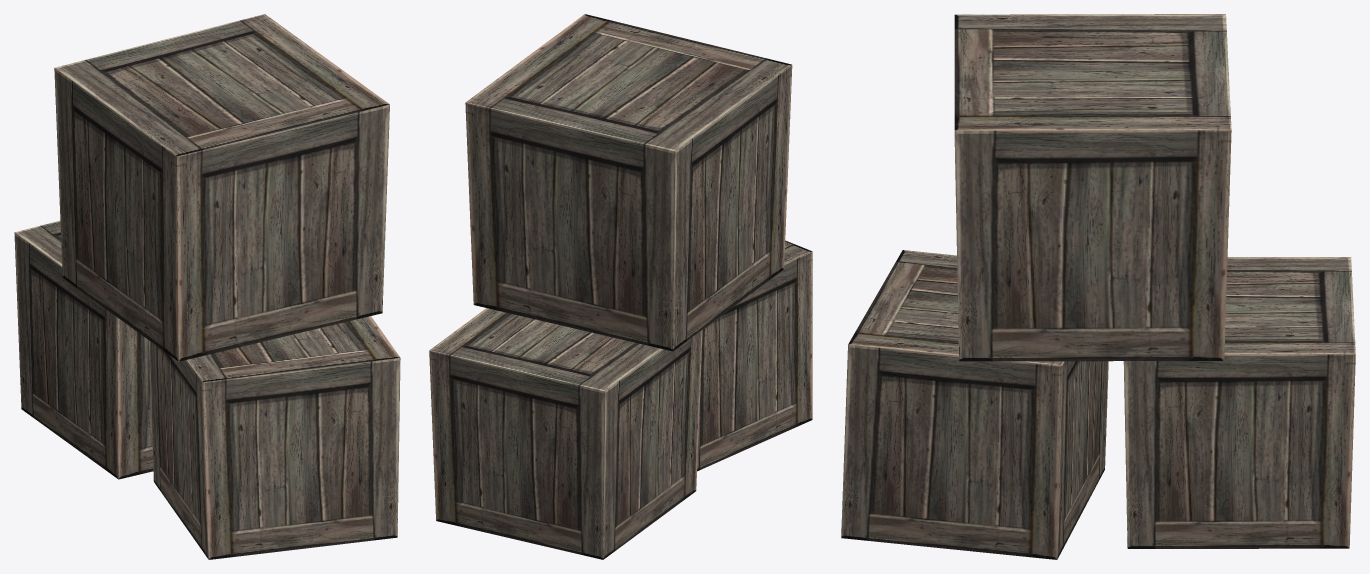
The model's file is crates_group_1.fbx.
3 renders of one model, left to right at view 1: azimuth 30°, elevation 25°; view 2: azimuth 150°, elevation 25°; view 3: azimuth 270°, elevation 25°, orthographic. The views are drawn at different scales.
Parts seen in each view (by area): view 1: crate_sides.002, crate_sides.001, crate_top.002, crate_sides, crate_top.001, crate_top; view 2: crate_sides.002, crate_sides, crate_top.002, crate_sides.001, crate_top; view 3: crate_sides.002, crate_sides.001, crate_sides, crate_top.002, crate_top, crate_top.001.
Boxes of the visible parts, left/top/right/bottom form: crate_sides.002: left=54, top=68, right=389, bottom=361; crate_sides.001: left=148, top=340, right=400, bottom=559; crate_top.002: left=54, top=14, right=389, bottom=156; crate_sides: left=14, top=232, right=153, bottom=479; crate_top.001: left=187, top=316, right=400, bottom=381; crate_top: left=15, top=220, right=62, bottom=266; crate_sides.002: left=465, top=65, right=792, bottom=351; crate_sides: left=429, top=330, right=702, bottom=559; crate_top.002: left=466, top=14, right=791, bottom=151; crate_sides.001: left=697, top=251, right=812, bottom=471; crate_top: left=429, top=308, right=661, bottom=391; crate_sides.002: left=954, top=130, right=1231, bottom=361; crate_sides.001: left=841, top=344, right=1108, bottom=559; crate_sides: left=1123, top=354, right=1355, bottom=548; crate_top.002: left=954, top=14, right=1231, bottom=130; crate_top: left=1224, top=257, right=1355, bottom=354; crate_top.001: left=848, top=250, right=1063, bottom=365.
Bounding box in the file's own units: 396 × 675 × 730.
1 material, 1 textured.
